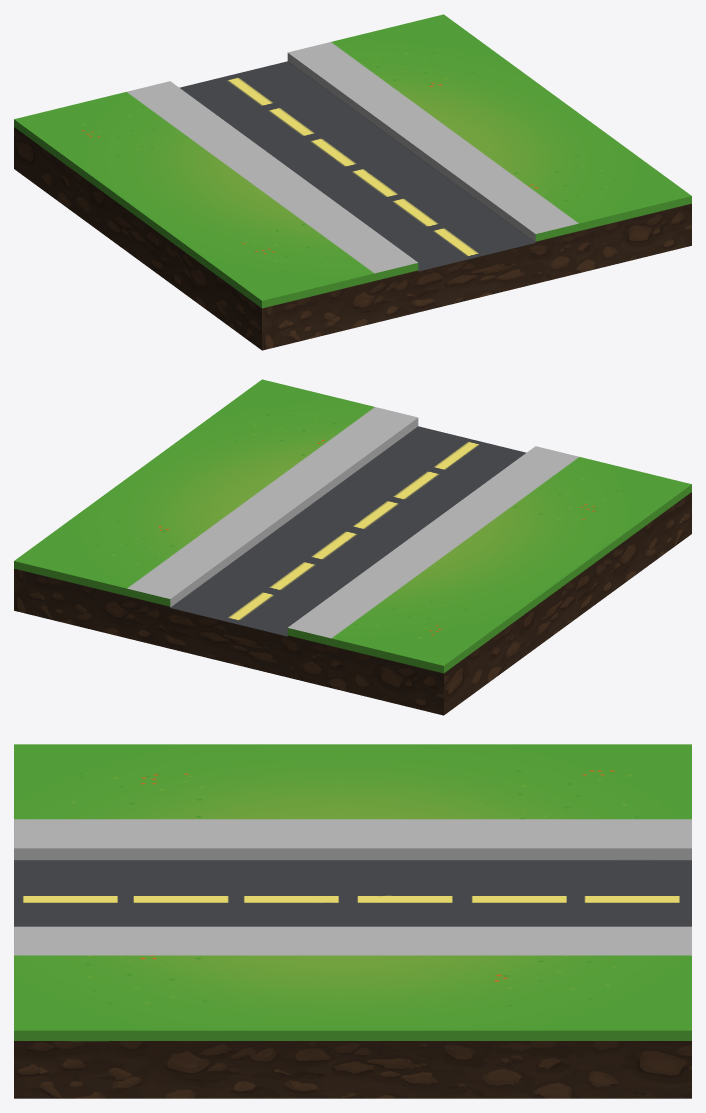
File: city_road_02.fbx
The picture shows the model from 3 angles, top to bottom: view 1: azimuth 30°, elevation 25°; view 2: azimuth 150°, elevation 25°; view 3: azimuth 270°, elevation 25°; orthographic projection. The views are drawn at different scales.
Parts seen in each view (by area): view 1: road_02; view 2: road_02; view 3: road_02.
Part boxes in pixels (x1,y1,x2,y2): road_02: (14,14,691,350); road_02: (14,379,691,715); road_02: (14,744,691,1098).
Bounding box in the file's own units: 22 × 2.43 × 22.
